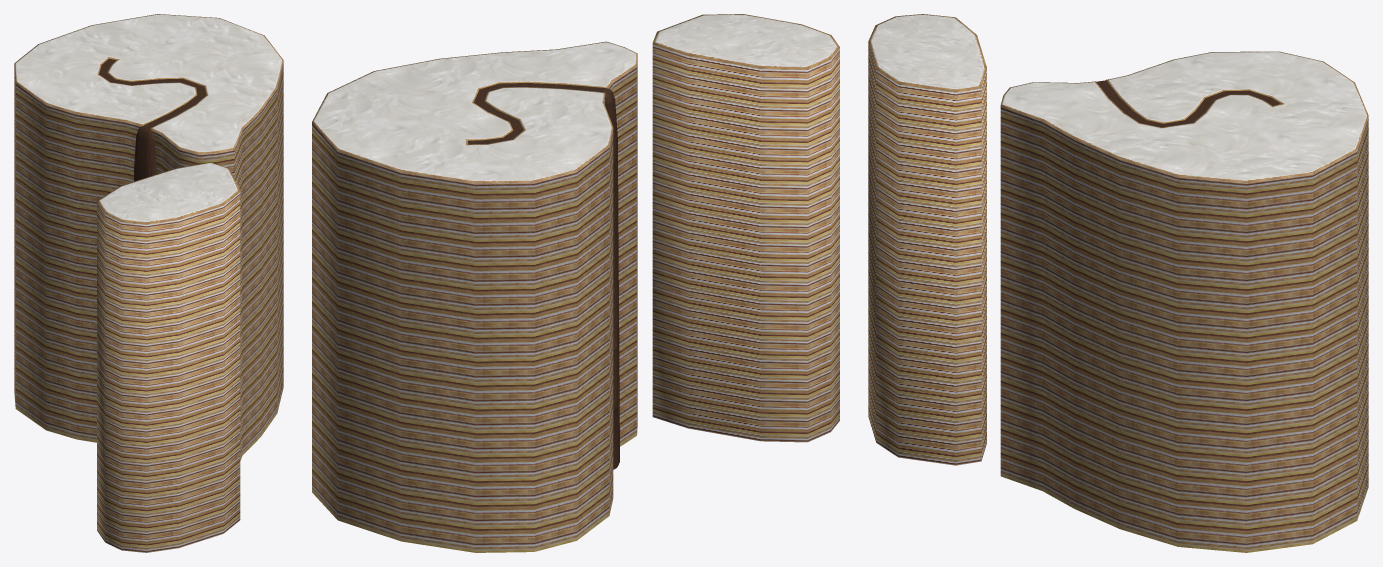
The model's file is Candy.obj.
The picture shows the model from 3 angles, left to right: view 1: azimuth 30°, elevation 25°; view 2: azimuth 150°, elevation 25°; view 3: azimuth 270°, elevation 25°; orthographic projection. The views are drawn at different scales.
Bounding box in the file's own units: 1780 × 1862 × 2251.
Materials: 4 (4 with a texture image).
